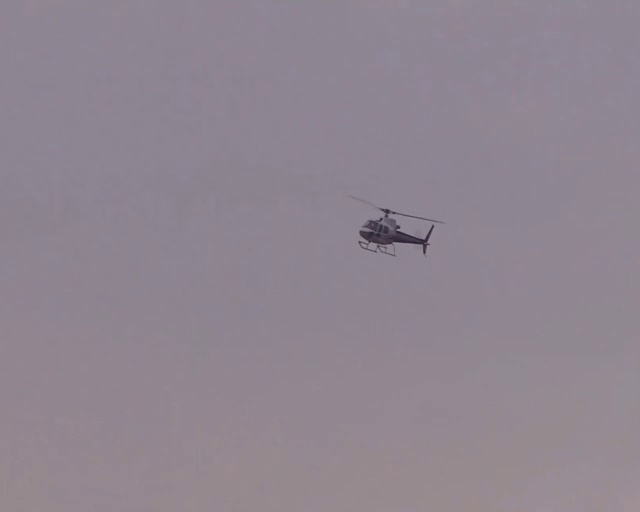HELICOPTER: (347, 193, 445, 257)
